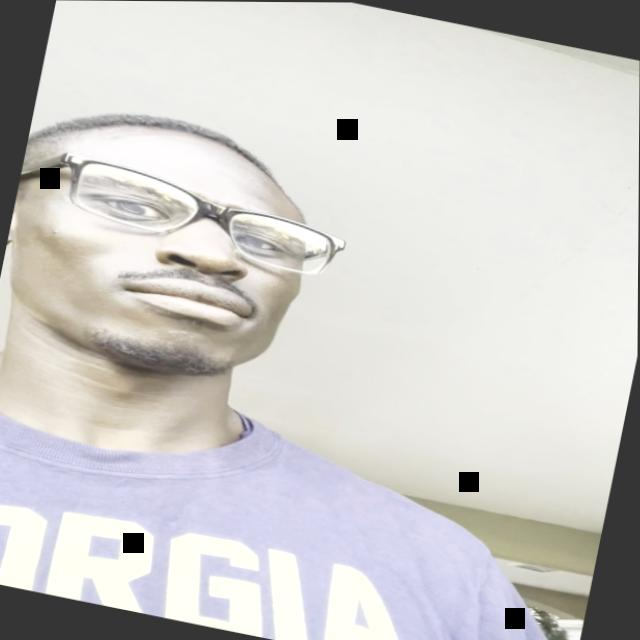NO-Mask: (0, 95, 348, 428)
